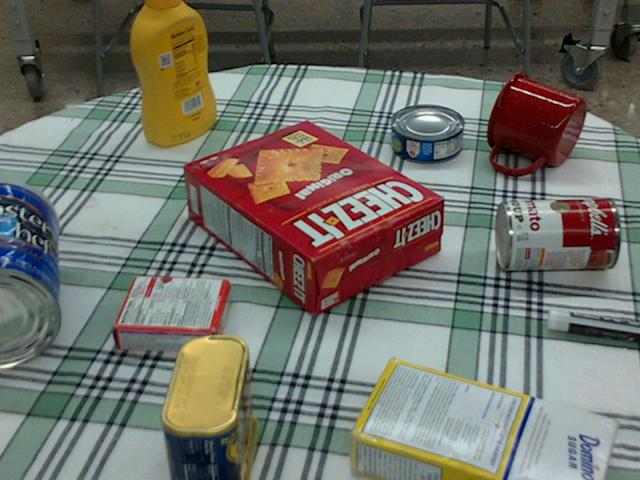cracker_box: (182, 118, 441, 314)
gelatin_box: (114, 273, 230, 354)
large_marker: (548, 307, 639, 343)
master_chef_can: (0, 178, 62, 366)
mug: (486, 71, 584, 174)
mustard_bottle: (131, 0, 216, 146)
potted_meat_can: (159, 332, 256, 479)
sugar_box: (345, 361, 617, 479)
tomato_soup_can: (495, 197, 619, 269)
tuna_fish_can: (391, 105, 464, 162)
